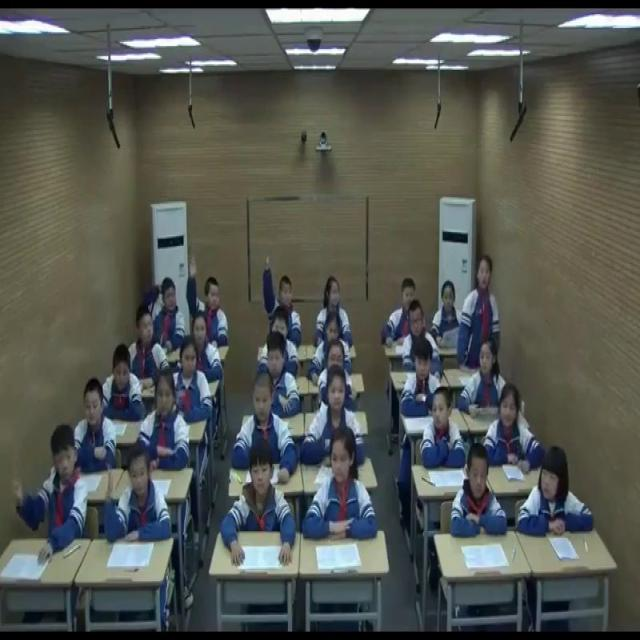distracted: (128, 308, 169, 390), (310, 313, 352, 384), (315, 274, 355, 346)
focused: (222, 442, 299, 574), (304, 427, 378, 542), (29, 423, 89, 562), (515, 444, 595, 542), (233, 370, 298, 484), (301, 368, 367, 467), (139, 367, 191, 476), (450, 447, 506, 538), (487, 381, 543, 472), (457, 339, 518, 417), (460, 254, 502, 366), (76, 378, 118, 475), (422, 386, 468, 469), (173, 334, 214, 426), (256, 308, 303, 388), (400, 341, 447, 420), (262, 336, 304, 418), (382, 277, 430, 348), (102, 342, 142, 424), (402, 300, 442, 376), (320, 341, 354, 412), (190, 310, 224, 381), (433, 280, 465, 340)
raising_hand: (105, 437, 172, 551), (186, 255, 229, 351), (263, 248, 302, 344), (144, 275, 183, 351)
